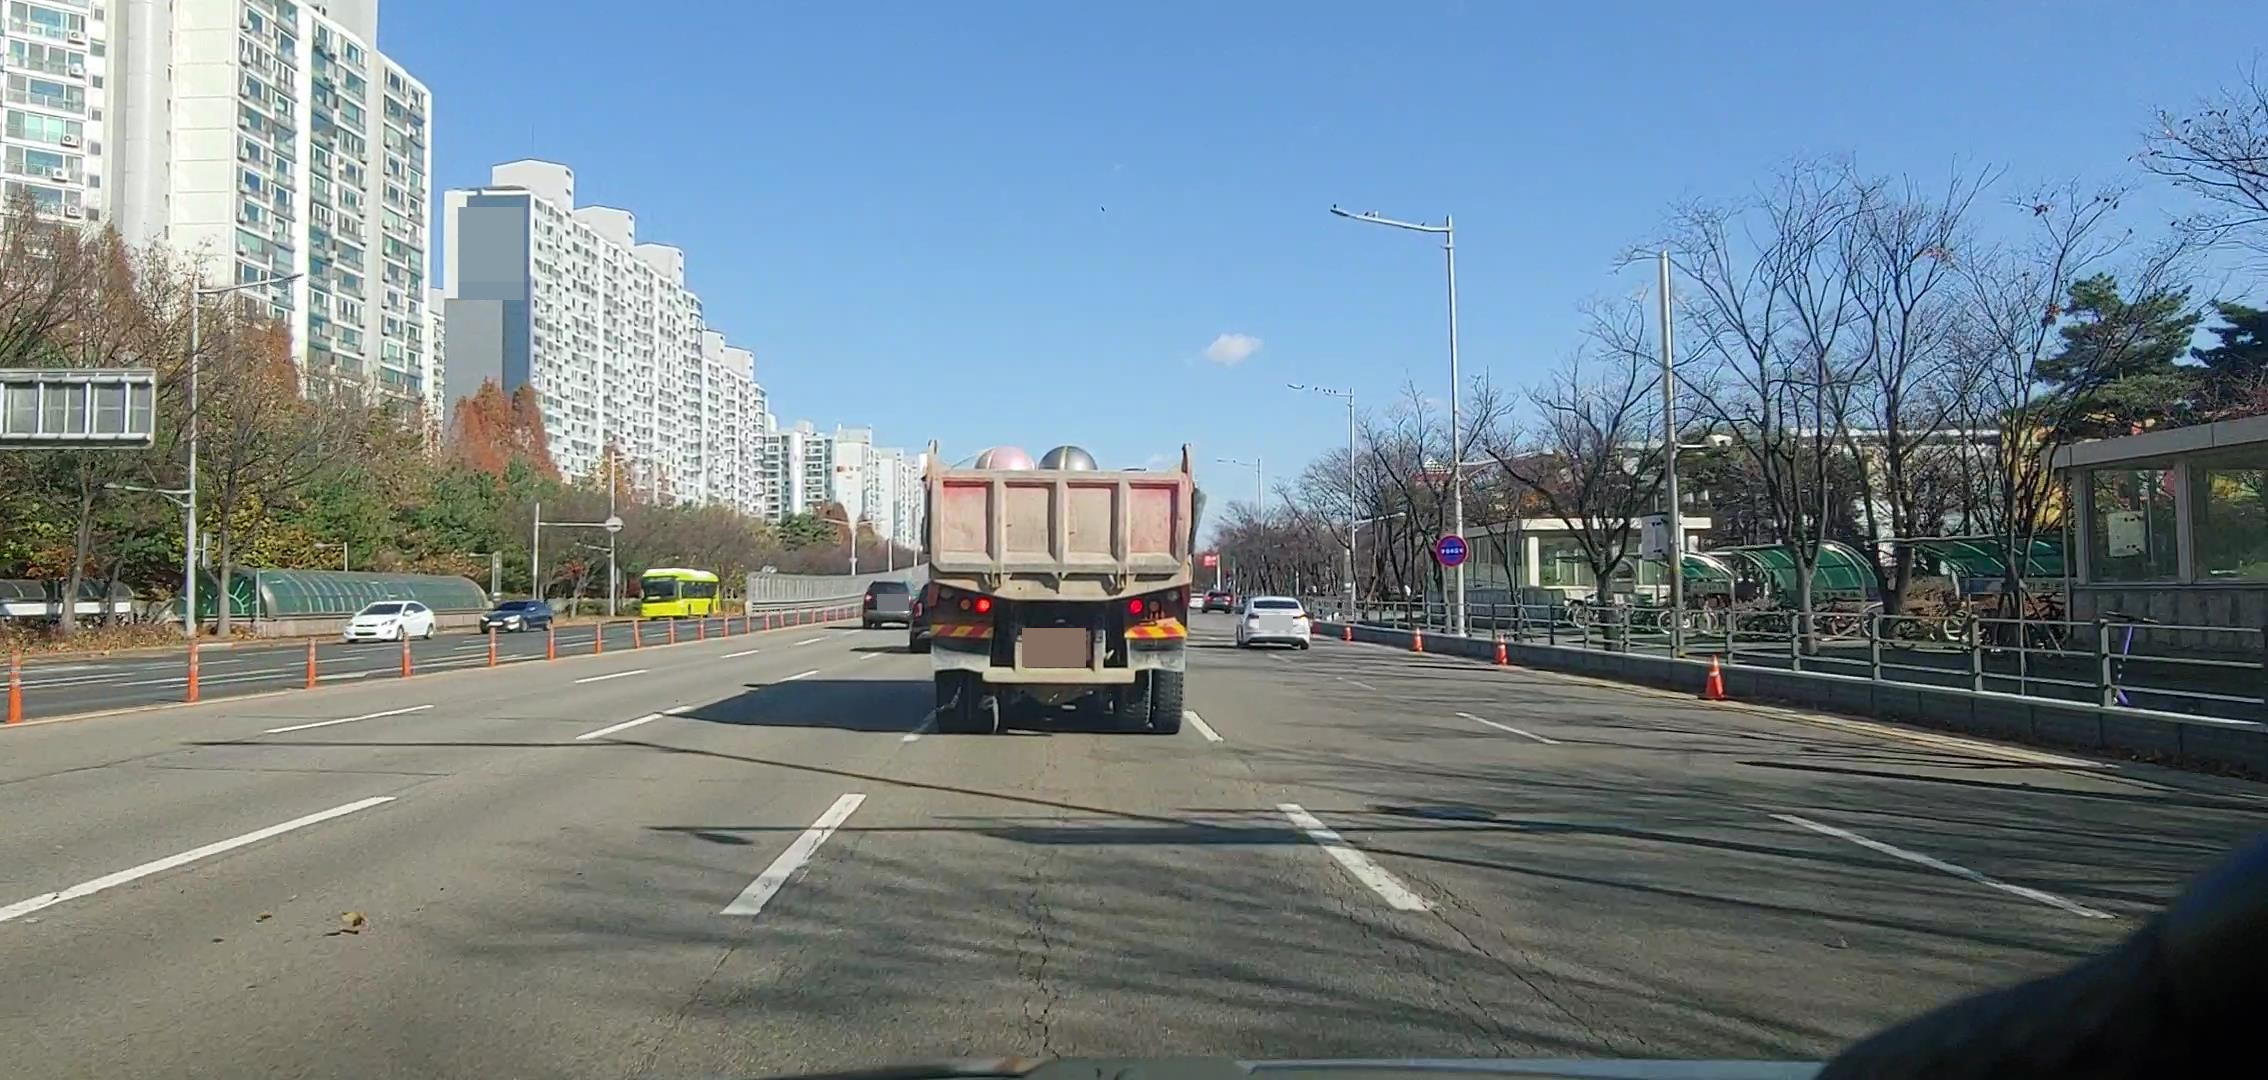불법차량: (918, 441, 1209, 735)
